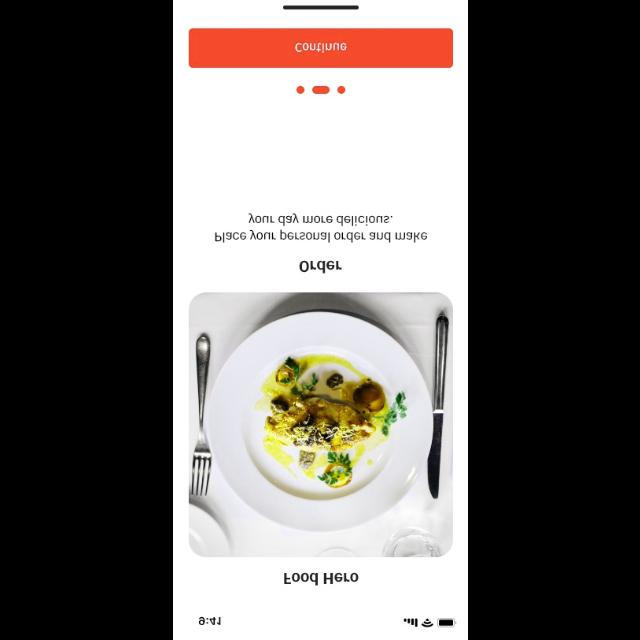image: (189, 292, 453, 556)
pageindicator: (296, 84, 346, 94)
text: (215, 212, 428, 242), (282, 571, 360, 585), (298, 260, 342, 274)
textbutton: (189, 28, 453, 68)
uppertaskbar: (197, 616, 457, 626)
